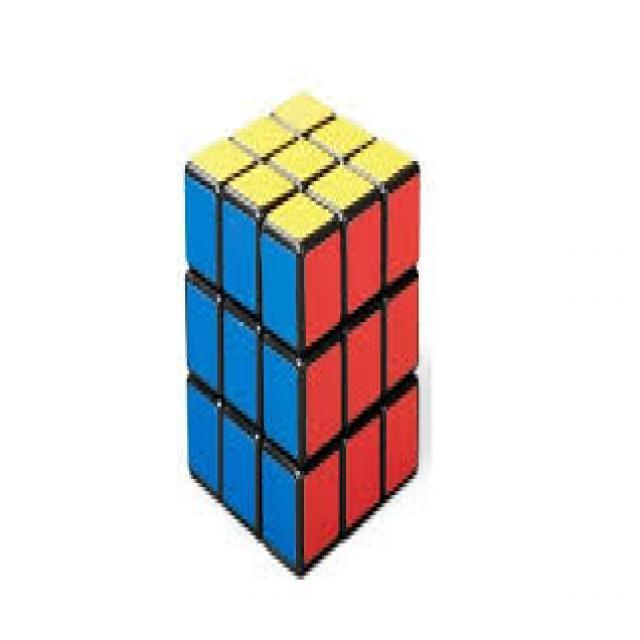Rub: (182, 89, 422, 578)
